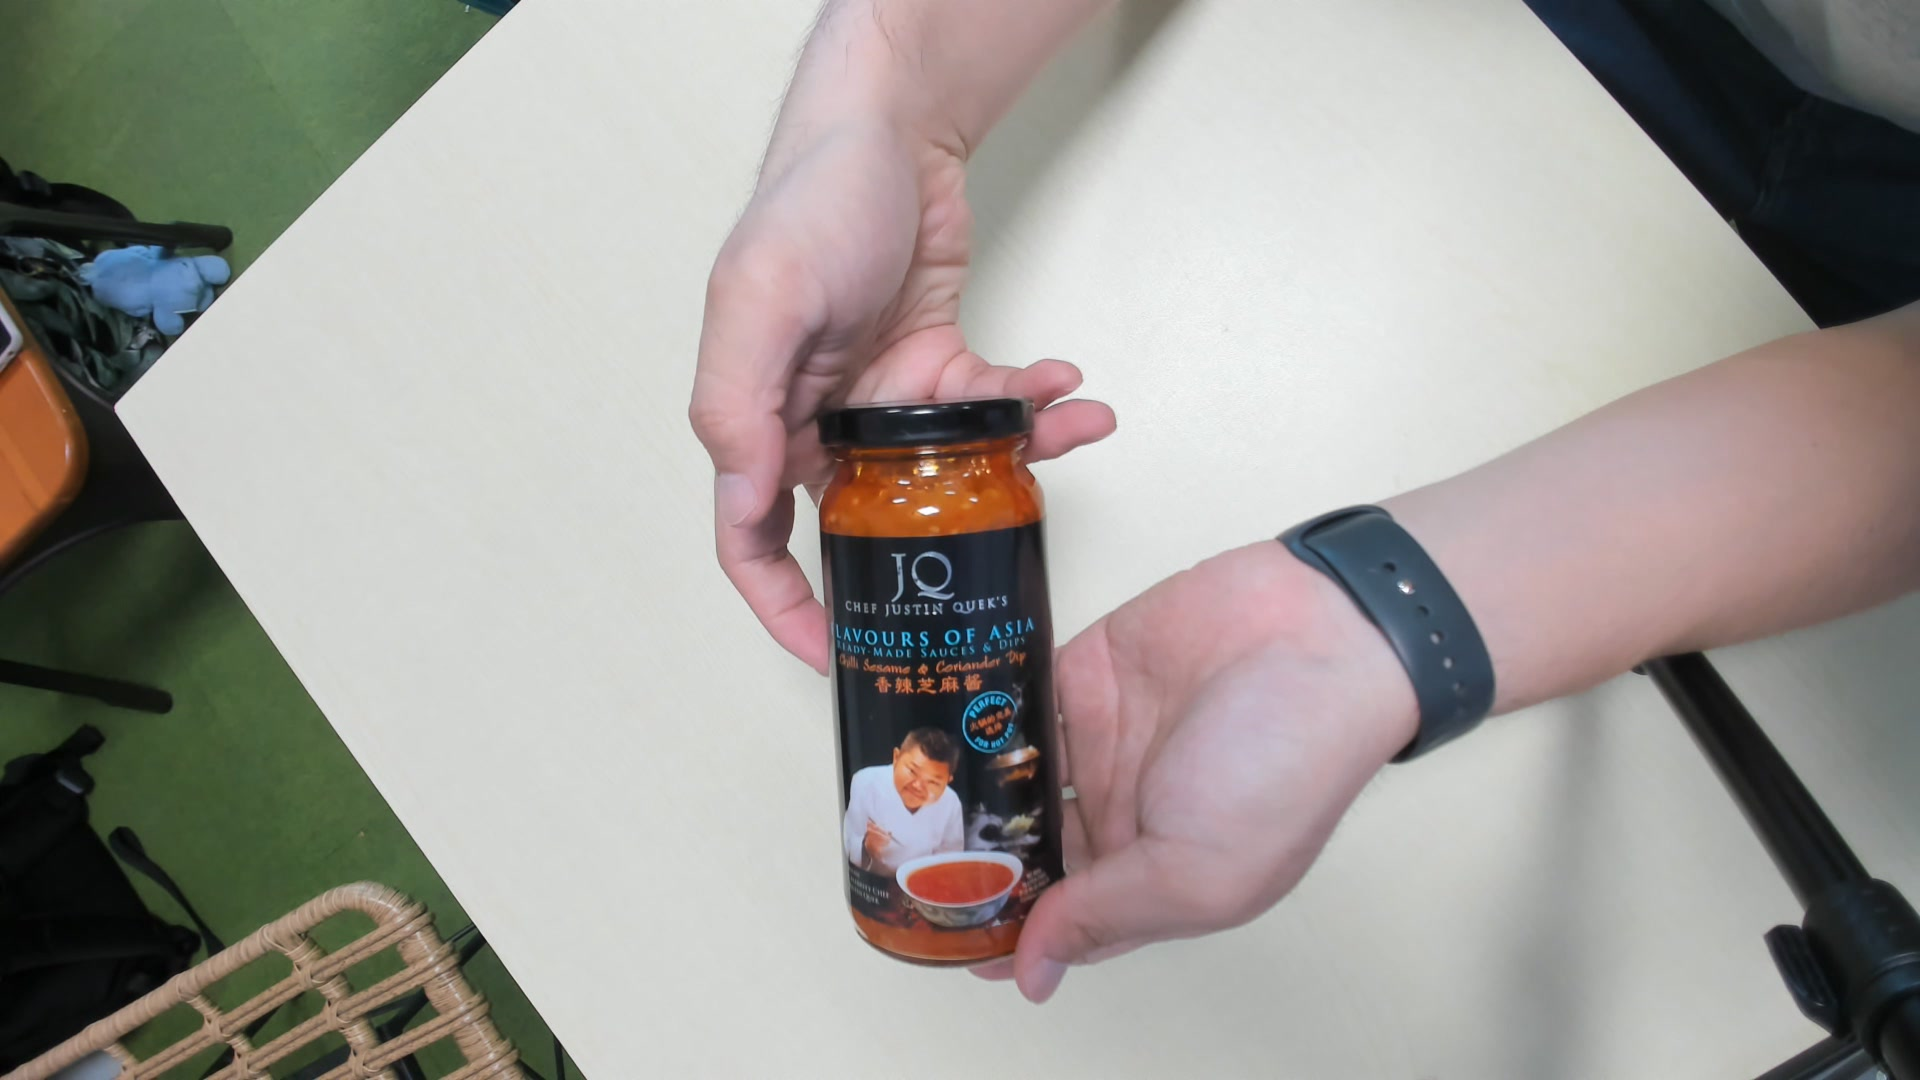OtherSauceDressing_300-399g_NonHalal_NonHealthy: (810, 393, 1062, 967)
